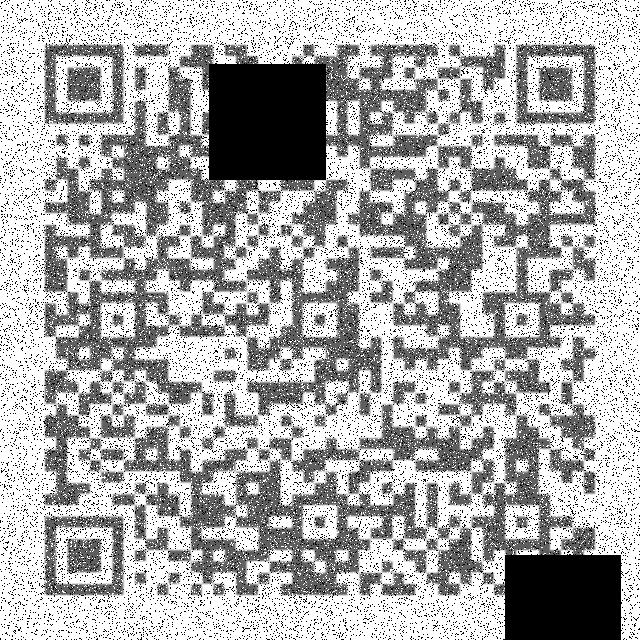QR_CODE: (30, 31, 605, 605)
